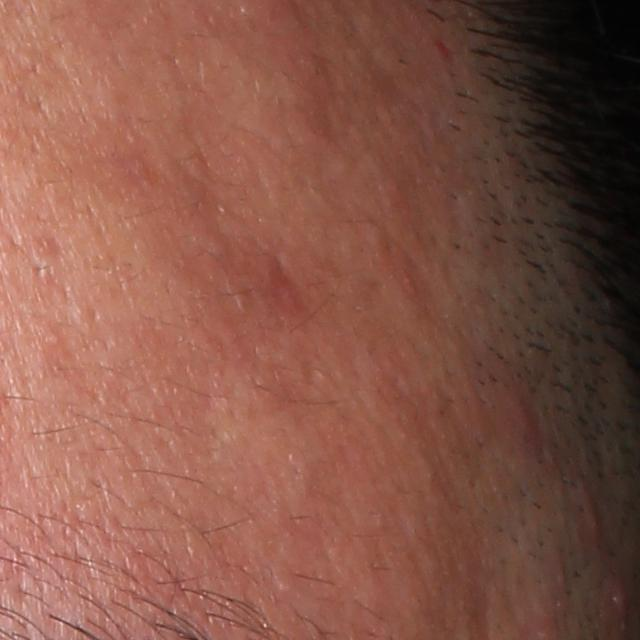papule: (502, 390, 547, 446), (608, 571, 635, 622), (582, 496, 603, 537)
